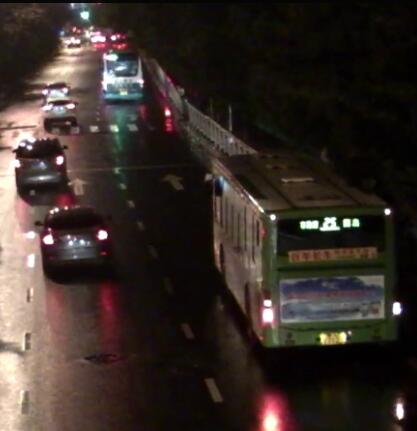bus: (203, 149, 403, 355), (102, 45, 144, 99)
car: (31, 200, 114, 272), (13, 137, 68, 194), (41, 97, 74, 128), (39, 80, 70, 98), (62, 35, 83, 47)
